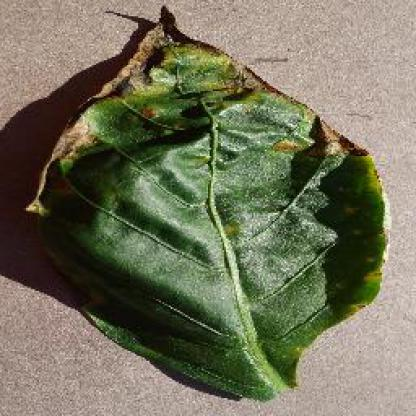bad leaf: (37, 35, 374, 227)
